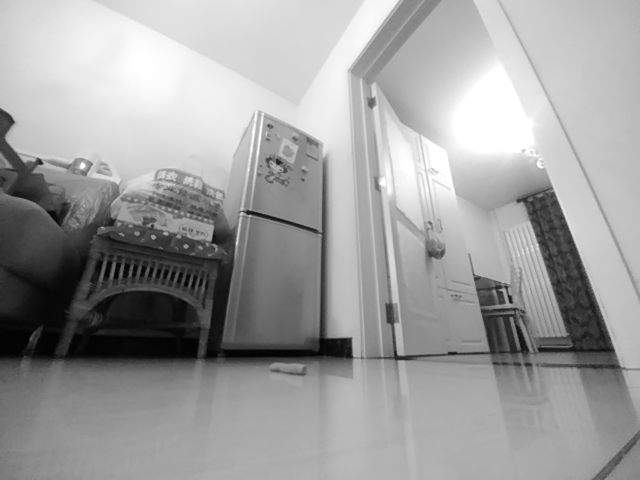curtain: (516, 187, 614, 352)
pet feces: (269, 361, 307, 376)
